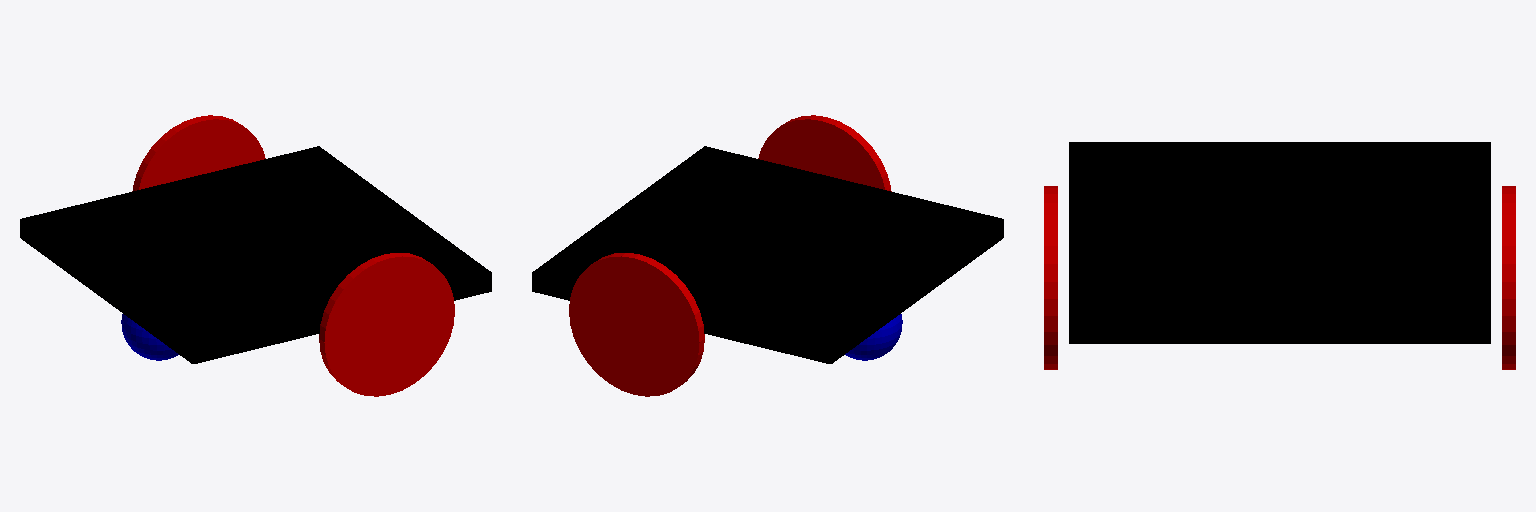
The robot description file, URDF, robot "rover":
<?xml version="1.0" ?>
<!-- =================================================================================== -->
<!-- |    This document was autogenerated by xacro from rover.xacro                    | -->
<!-- |    EDITING THIS FILE BY HAND IS NOT RECOMMENDED                                 | -->
<!-- =================================================================================== -->
<robot name="rover">
  <!--Color Properties-->
  <material name="blue">
    <color rgba="0 0 0.8 1"/>
  </material>
  <material name="black">
    <color rgba="0 0 0 1"/>
  </material>
  <material name="white">
    <color rgba="1 1 1 1"/>
  </material>
  <material name="red">
    <color rgba="0.8 0.0 0.0 1.0"/>
  </material>
  <!--Base Footprint-->
  <link name="base_footprint">
    <inertial>
      <mass value="10"/>
      <inertia ixx="1.6666666666666667e-06" ixy="0.0" ixz="0.0" iyy="1.6666666666666667e-06" iyz="0.0" izz="1.6666666666666667e-06"/>
    </inertial>
    <visual>
      <origin rpy="0 0 0" xyz="0 0 0"/>
      <geometry>
        <box size="0.001 0.001 0.001"/>
      </geometry>
    </visual>
  </link>
  <!--Base link-->
  <link name="base_link">
    <inertial>
      <mass value="10"/>
      <inertia ixx="0.021416666666666667" ixy="0.0" ixz="0.0" iyy="0.04266666666666667" iyz="0.0" izz="0.021416666666666667"/>
    </inertial>
    <visual>
      <geometry>
        <box size="0.16 0.16 0.01"/>
      </geometry>
      <material name="black"/>
    </visual>
    <collision>
      <geometry>
        <box size="0.16 0.16 0.01"/>
      </geometry>
    </collision>
  </link>
  <!--base_link to base_footprint Joint-->
  <joint name="base_link_joint" type="fixed">
    <origin rpy="0 0 0" xyz="0 0 0.04"/>
    <parent link="base_footprint"/>
    <child link="base_link"/>
  </joint>
  <link name="left_wheel">
    <visual>
      <origin rpy="1.5707963267948966 0 0" xyz="0 0 0"/>
      <geometry>
        <cylinder length="0.005" radius="0.035"/>
      </geometry>
      <material name="red"/>
    </visual>
    <collision>
      <origin rpy="1.5707963267948966 0 0" xyz="0 0 0"/>
      <geometry>
        <cylinder length="0.005" radius="0.035"/>
      </geometry>
    </collision>
    <inertial>
      <mass value="10"/>
      <inertia ixx="0.0030833333333333338" ixy="0" ixz="0" iyy="0.0030833333333333338" iyz="0" izz="0.006125000000000001"/>
    </inertial>
  </link>
  <joint name="left_wheel_joint" type="continuous">
    <axis rpy="0 0 0" xyz="0 1 0"/>
    <parent link="base_link"/>
    <child link="left_wheel"/>
    <origin rpy="0 0 0" xyz="0.02 0.08700000000000001 -0.005"/>
  </joint>
  <link name="right_wheel">
    <visual>
      <origin rpy="1.5707963267948966 0 0" xyz="0 0 0"/>
      <geometry>
        <cylinder length="0.005" radius="0.035"/>
      </geometry>
      <material name="red"/>
    </visual>
    <collision>
      <origin rpy="1.5707963267948966 0 0" xyz="0 0 0"/>
      <geometry>
        <cylinder length="0.005" radius="0.035"/>
      </geometry>
    </collision>
    <inertial>
      <mass value="10"/>
      <inertia ixx="0.0030833333333333338" ixy="0" ixz="0" iyy="0.0030833333333333338" iyz="0" izz="0.006125000000000001"/>
    </inertial>
  </link>
  <joint name="right_wheel_joint" type="continuous">
    <axis rpy="0 0 0" xyz="0 1 0"/>
    <parent link="base_link"/>
    <child link="right_wheel"/>
    <origin rpy="0 0 0" xyz="0.02 -0.08700000000000001 -0.005"/>
  </joint>
  <!--Caster Wheel Link-->
  <link name="caster_wheel">
    <visual>
      <origin rpy="0 0 0" xyz="0 0 0"/>
      <geometry>
        <sphere radius="0.0175"/>
      </geometry>
      <material name="blue"/>
    </visual>
    <collision>
      <origin rpy="0 0 0" xyz="0 0 0"/>
      <geometry>
        <sphere radius="0.0175"/>
      </geometry>
    </collision>
    <inertial>
      <mass value="10"/>
      <inertia ixx="0.0012250000000000002" ixy="0.0" ixz="0.0" iyy="0.0012250000000000002" iyz="0.0" izz="0.0012250000000000002"/>
    </inertial>
  </link>
  <!--Caster Wheel Joint-->
  <joint name="caster_wheel_joint" type="continuous">
    <axis rpy="0 0 0" xyz="0 1 0"/>
    <parent link="base_link"/>
    <child link="caster_wheel"/>
    <origin rpy="0 0 0" xyz="-0.052 0 -0.022500000000000003"/>
  </joint>
  <gazebo>
    <plugin filename="libgazebo_ros_diff_drive.so" name="differential_drive_controller">
      <alwaysOn>false</alwaysOn>
      <legacyMode>false</legacyMode>
      <updateRate>20</updateRate>
      <leftJoint>left_wheel_joint</leftJoint>
      <rightJoint>right_wheel_joint</rightJoint>
      <wheelSeparation>0.15</wheelSeparation>
      <wheelDiameter>0.07</wheelDiameter>
      <torque>20</torque>
      <commandTopic>/cmd_vel</commandTopic>
      <odometryTopic>/odom</odometryTopic>
      <odometryFrame>odom</odometryFrame>
      <robotBaseFrame>base_footprint</robotBaseFrame>
    </plugin>
  </gazebo>
  <gazebo>
    <plugin filename="libhector_gazebo_ros_gps.so" name="gazebo_ros_gps">
      <updateRate>4.0</updateRate>
      <bodyName>base_link</bodyName>
      <frameId>base_link</frameId>
      <topicName>/gps/fix</topicName>
      <velocityTopicName>/gps/fix_velocity</velocityTopicName>
      <referenceLatitude>42.2</referenceLatitude>
      <referenceLongitude>-83.7</referenceLongitude>
      <referenceHeading>0.0</referenceHeading>
      <referenceAltitude>0.0</referenceAltitude>
      <offset>0 0 0</offset>
      <drift>0.0 0.0 0.0</drift>
      <gaussianNoise>0.05 0.05 0.05</gaussianNoise>
      <velocityDrift>0.0 0.0 0.0</velocityDrift>
      <velocityGaussianNoise>0.5 0.5 0.5</velocityGaussianNoise>
    </plugin>
  </gazebo>
  <gazebo reference="base_link">
    <gravity>true</gravity>
    <sensor name="imu_sensor" type="imu">
      <always_on>true</always_on>
      <update_rate>100</update_rate>
      <visualize>true</visualize>
      <topic>__default_topic__</topic>
      <plugin filename="libgazebo_ros_imu_sensor.so" name="imu_plugin">
        <topicName>imu</topicName>
        <bodyName>base_link</bodyName>
        <updateRateHZ>10.0</updateRateHZ>
        <gaussianNoise>0.0</gaussianNoise>
        <xyzOffset>0 0 0</xyzOffset>
        <rpyOffset>0 0 0</rpyOffset>
        <frameName>imu_link</frameName>
        <initialOrientationAsReference>false</initialOrientationAsReference>
      </plugin>
      <pose>0 0 0 0 0 0</pose>
    </sensor>
  </gazebo>
</robot>

--- Render facts (derived) ---
3 views of the same robot in one strip: view 1: azimuth 30°, elevation 25°; view 2: azimuth 150°, elevation 25°; view 3: azimuth 270°, elevation 25° (orthographic).
Robot: rover — 5 links, 4 joints (3 continuous, 1 fixed); root link base_footprint; default pose: every joint at zero.
Links seen in each view (by area): view 1: base_link, right_wheel, left_wheel, caster_wheel; view 2: base_link, left_wheel, right_wheel, caster_wheel; view 3: base_link, left_wheel, right_wheel.
Link boxes in pixels (x1,y1,x2,y2): base_link: (20,146,491,363); right_wheel: (319,253,454,396); left_wheel: (132,115,265,191); caster_wheel: (121,314,178,360); base_link: (532,146,1003,363); left_wheel: (569,253,704,396); right_wheel: (758,115,891,191); caster_wheel: (845,314,902,360); base_link: (1069,142,1490,343); left_wheel: (1502,186,1515,369); right_wheel: (1044,186,1057,369).
Size in the robot's own frame: 0.16 by 0.179 by 0.0705 metres.
Geometry: primitives only (box / cylinder / sphere), no mesh files.